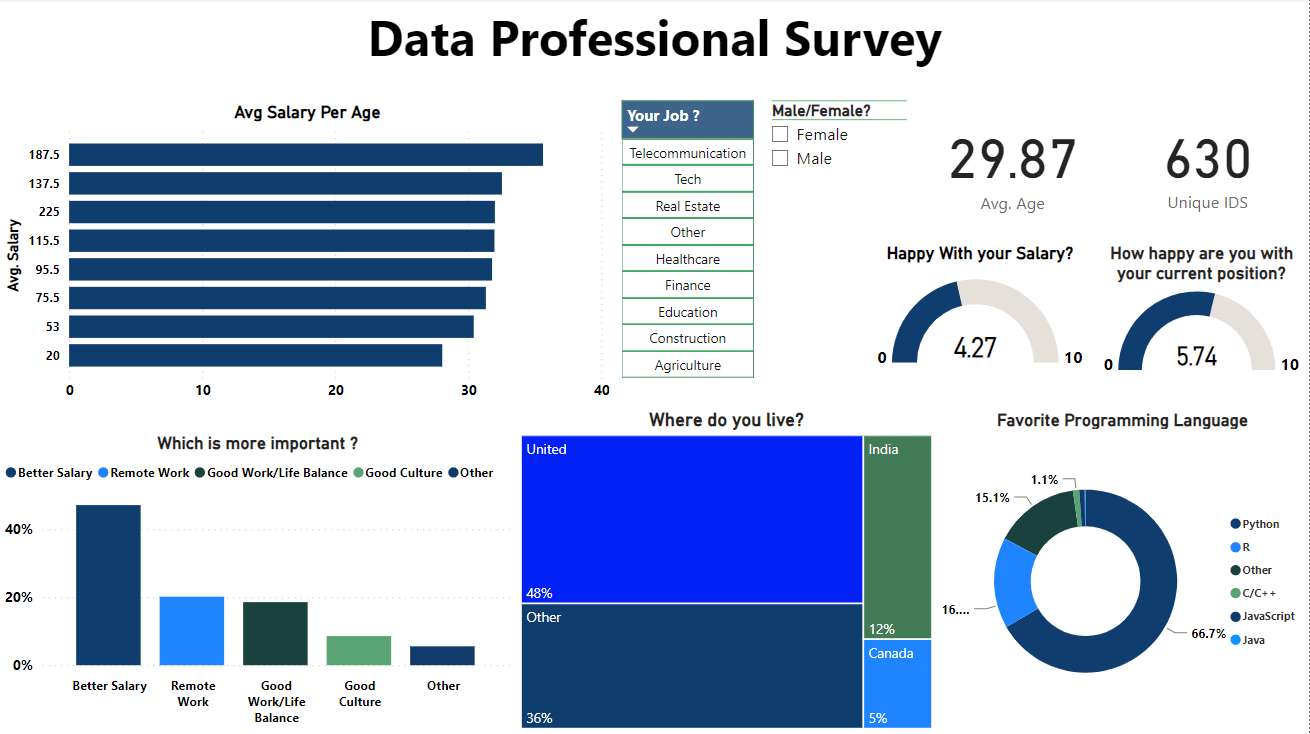

What the dashboard file says about the page in this screenshot:
{"tool":"powerbi","page":{"name":"Page 1","canvas":[1280,720],"ordinal":0},"visuals":[{"type":"textbox","box":[0,0,1280.5,95.5],"z":0},{"type":"card","fields":{"Values":["CountNonNull(Data Professional Survey (2).Unique ID)"]},"box":[1081.5,95.5,199.1,130.5],"z":1000},{"type":"card","fields":{"Values":["Avg(Data Professional Survey.Q10 - Current Age)"]},"box":[899.9,95.5,181.6,131.8],"z":2000},{"type":"barChart","title":"Avg Salary Per Age","fields":{"Category":["Data Professional Survey.Avg. Salary"],"Y":["Avg(Data Professional Survey.Q10 - Current Age)"]},"box":[0,100.9,601.3,301.3],"z":3000},{"type":"gauge","title":"How happy are you with your current position?","fields":{"Y":["Avg(Data Professional Survey.Q6 - How Happy are you in your Current Position with the following? (Work/Life Balance))"],"MinValue":["Min(Data Professional Survey.Q6 - How Happy are you in your Current Position with the following? (Work/Life Balance))1"],"MaxValue":["Max(Data Professional Survey.Q6 - How Happy are you in your Current Position with the following? (Work/Life Balance))2"]},"box":[1069.4,239.4,211.2,138.5],"z":5000},{"type":"gauge","title":"Happy With your Salary?","fields":{"Y":["Avg(Data Professional Survey.Q6 - How Happy are you in your Current Position with the following? (Salary))"],"MinValue":["Min(Data Professional Survey.Q6 - How Happy are you in your Current Position with the following? (Salary))"],"MaxValue":["Max(Data Professional Survey.Q6 - How Happy are you in your Current Position with the following? (Salary))1"]},"box":[848.8,239.4,220.6,138.5],"z":6000},{"type":"slicer","fields":{"Values":["Data Professional Survey.Q9 - Male/Female?"]},"box":[742,95.3,157.7,99],"z":7000},{"type":"treemap","title":"Where do you live?","fields":{"Group":["Data Professional Survey.Q11 - Which Country do you live in?.1"],"Values":["CountNonNull(Data Professional Survey.Q11 - Which Country do you live in?.1)"]},"box":[504.4,402.2,411.6,317.4],"z":8000},{"type":"tableEx","fields":{"Values":["Data Professional Survey.Q4 - What Industry do you work in?.1"]},"box":[601.3,95.5,142.6,287.9],"z":9000},{"type":"donutChart","title":"Favorite Programming Language","fields":{"Y":["CountNonNull(Data Professional Survey.Q5 - Favorite Programming Language.1)"],"Category":["Data Professional Survey.Q5 - Favorite Programming Language.1"]},"box":[916,402.2,364.5,317.4],"z":10000},{"type":"columnChart","title":"Which is more important ?","fields":{"Category":["Data Professional Survey (3).Q8 - If you were to look for a new job today, what would be the most important t"],"Y":["CountNonNull(Data Professional Survey (3).Q8 - If you were to look for a new job today, what would be the most important"],"Series":["Data Professional Survey (3).Q8 - If you were to look for a new job today, what would be the most important t"]},"box":[0,425.7,504.3,294.3],"z":11000}]}

Visuals, with their boxes in screenshot pixels (x1, y1, x2, y2), scaled from the page's 1280x720 canvas onto the 1310x734 screenshot:
textbox: box(0, 0, 1309, 97)
card - CountNonNull(Data Professional Survey (2).Unique ID): box(1107, 97, 1309, 230)
card - Avg(Data Professional Survey.Q10 - Current Age): box(921, 97, 1107, 232)
"Avg Salary Per Age" barChart: box(0, 103, 615, 410)
"How happy are you with your current position?" gauge: box(1094, 244, 1309, 385)
"Happy With your Salary?" gauge: box(869, 244, 1094, 385)
slicer - Data Professional Survey.Q9 - Male/Female?: box(759, 97, 921, 198)
"Where do you live?" treemap: box(516, 410, 937, 733)
tableEx - Data Professional Survey.Q4 - What Industry do you work in?.1: box(615, 97, 761, 391)
"Favorite Programming Language" donutChart: box(937, 410, 1309, 733)
"Which is more important ?" columnChart: box(0, 434, 516, 733)
